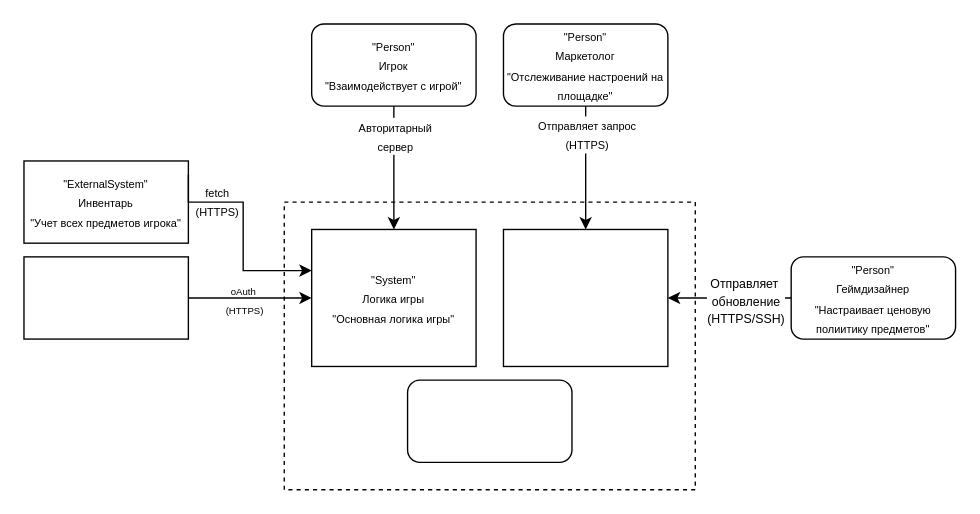
This 980x514 diagram has some shape labels left out. Here are the shapes that lost their labels. From the top down, the centre of each, then its label:
point (105, 297): "ExternalSystem" SSO/ID "Аутентификация"
point (585, 297): "System" Витрина предметов "Основная логика для витрины"
point (489, 420): "Person" Администратор "Администрирование системы"
